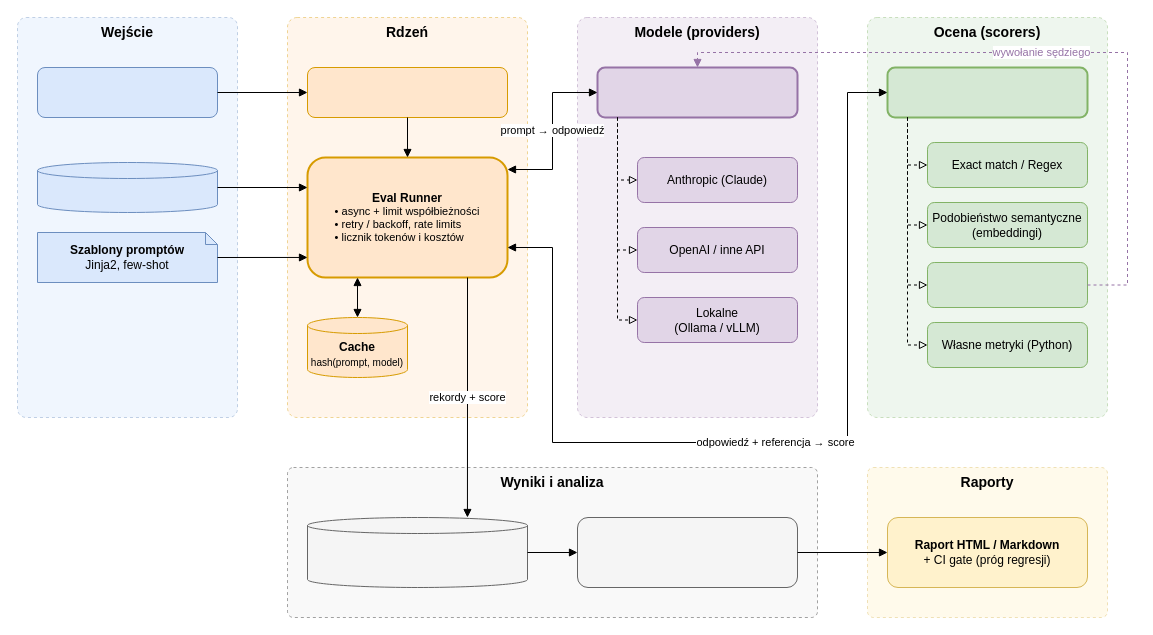
Some shapes in this 1153 by 635 pixel diagram are drawn without their labels. Here are the shapes that lost their labels. From the top down, the centre of each, then its label:
(x=127, y=92): Konfiguracja eval YAML: modele, metryki, parametry
(x=407, y=92): CLI llm-eval run / compare
(x=697, y=92): ModelProvider interfejs
(x=987, y=92): Scorer interfejs
(x=127, y=187): Datasety JSONL / CSV / HF + referencje
(x=1007, y=285): LLM-as-judge (rubryka)
(x=417, y=552): Results store SQLite / JSONL per run
(x=687, y=552): Agregacja średnie, przedziały ufności, porównanie runów
